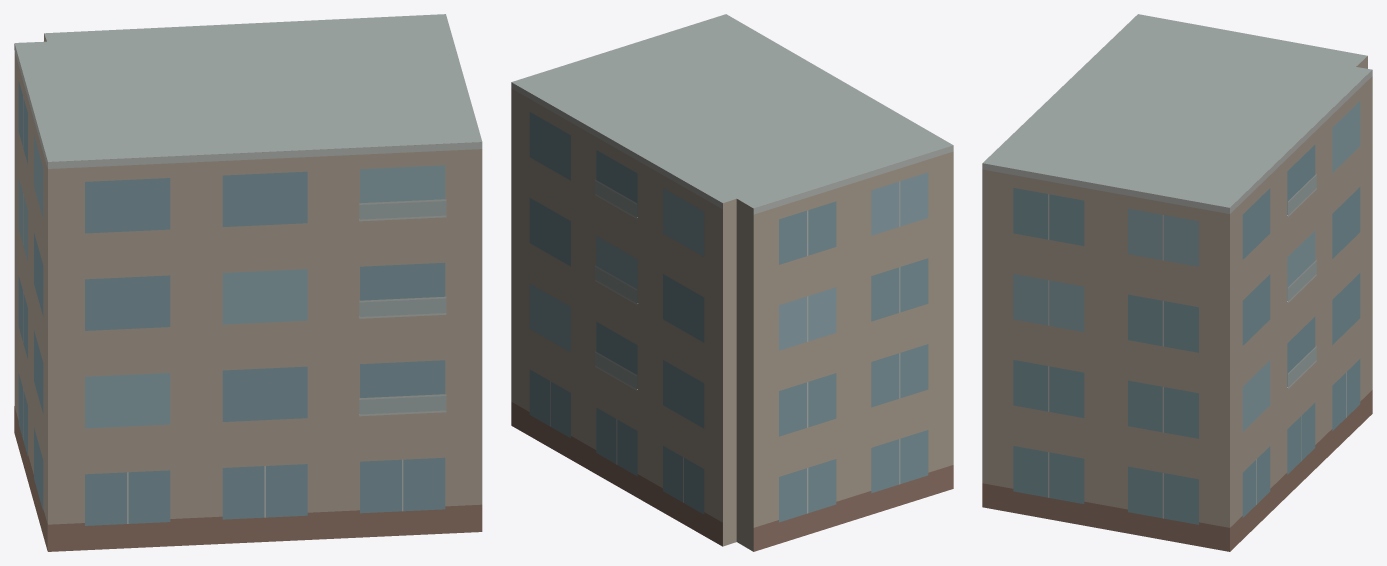
Rendered from survey-upis-32904758.glb.
3 views of the same model, side by side, from view 1: azimuth 30°, elevation 25°; view 2: azimuth 150°, elevation 25°; view 3: azimuth 270°, elevation 25° (orthographic). The views are drawn at different scales.
Parts seen in each view (by area): view 1: survey-upis-32904758.tmp; view 2: survey-upis-32904758.tmp; view 3: survey-upis-32904758.tmp.
Boxes of the visible parts, box(x1,y1,x2,y2) form: survey-upis-32904758.tmp: box(14, 14, 482, 551); survey-upis-32904758.tmp: box(511, 14, 953, 551); survey-upis-32904758.tmp: box(982, 14, 1372, 551).
Size of the model in its own units: 16.33 by 13.51 by 13.89.
